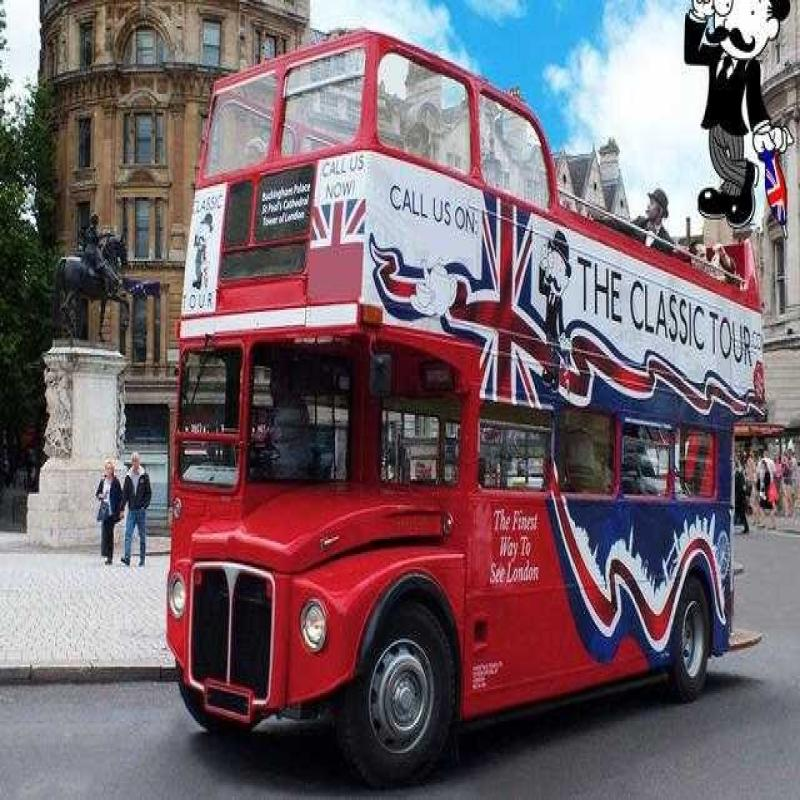bus: (158, 18, 766, 751)
